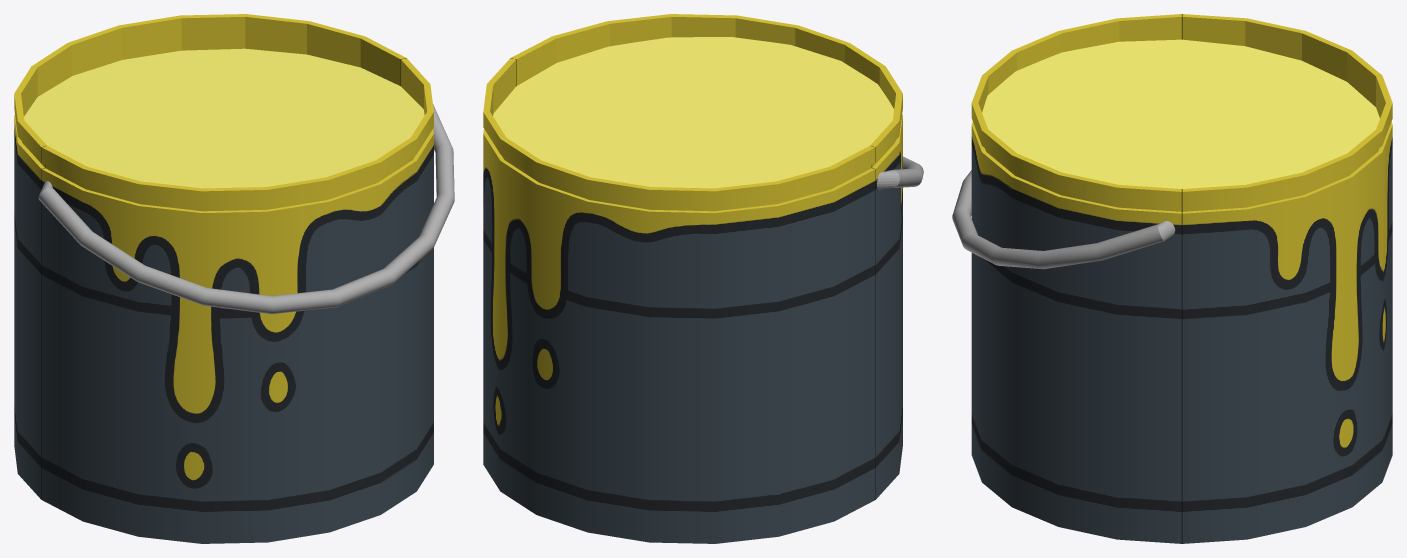
Rendered from paintBucket_Yellow.fbx.
3 renders of one model, left to right at view 1: azimuth 30°, elevation 25°; view 2: azimuth 150°, elevation 25°; view 3: azimuth 270°, elevation 25°, orthographic.
Visible parts, largest first — view 1: paintBucket, paintMesh, bucketHandle; view 2: paintBucket, paintMesh, bucketHandle; view 3: paintBucket, paintMesh, bucketHandle.
Boxes of the visible parts, box(x1,y1,x2,y2) form: paintBucket: box(14, 14, 433, 543); paintMesh: box(24, 48, 424, 188); bucketHandle: box(38, 104, 454, 314); paintBucket: box(483, 14, 902, 543); paintMesh: box(493, 37, 894, 188); bucketHandle: box(877, 156, 923, 189); paintBucket: box(971, 14, 1392, 543); paintMesh: box(982, 39, 1379, 188); bucketHandle: box(952, 170, 1175, 269).
Bounding box in the file's own units: 1.32 × 1.13 × 1.28.
3 materials, 1 textured.
